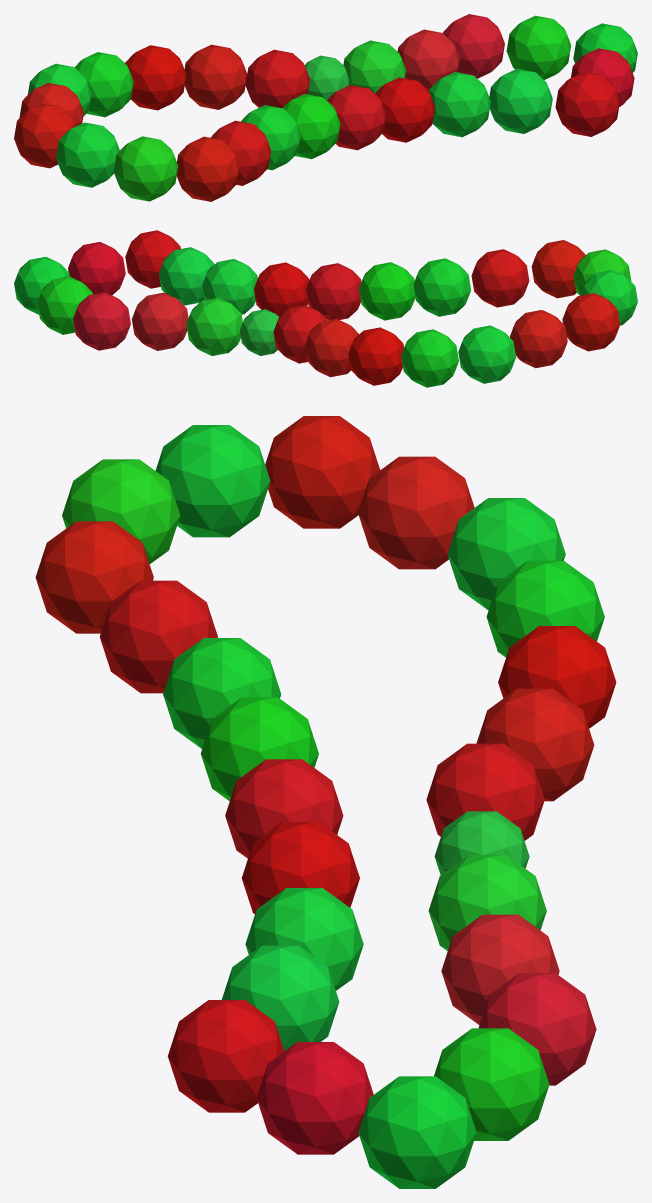
File: Bead$6.fbx
3 renders of one model, top to bottom at view 1: azimuth 30°, elevation 25°; view 2: azimuth 150°, elevation 25°; view 3: azimuth 270°, elevation 25°, orthographic. The views are drawn at different scales.
Visible parts, largest first — view 1: Icosphere.024; view 2: Icosphere.024; view 3: Icosphere.024.
Boxes of the visible parts, <box> form: Icosphere.024: <box>14,14,637,201</box>; Icosphere.024: <box>14,230,637,387</box>; Icosphere.024: <box>35,416,616,1188</box>.
Size of the model in its own units: 1388 by 297 by 609.
